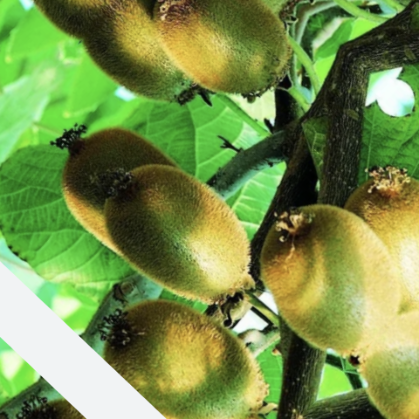kiwi: (66, 121, 297, 351), (211, 176, 419, 396), (54, 240, 302, 419), (126, 0, 323, 133)
